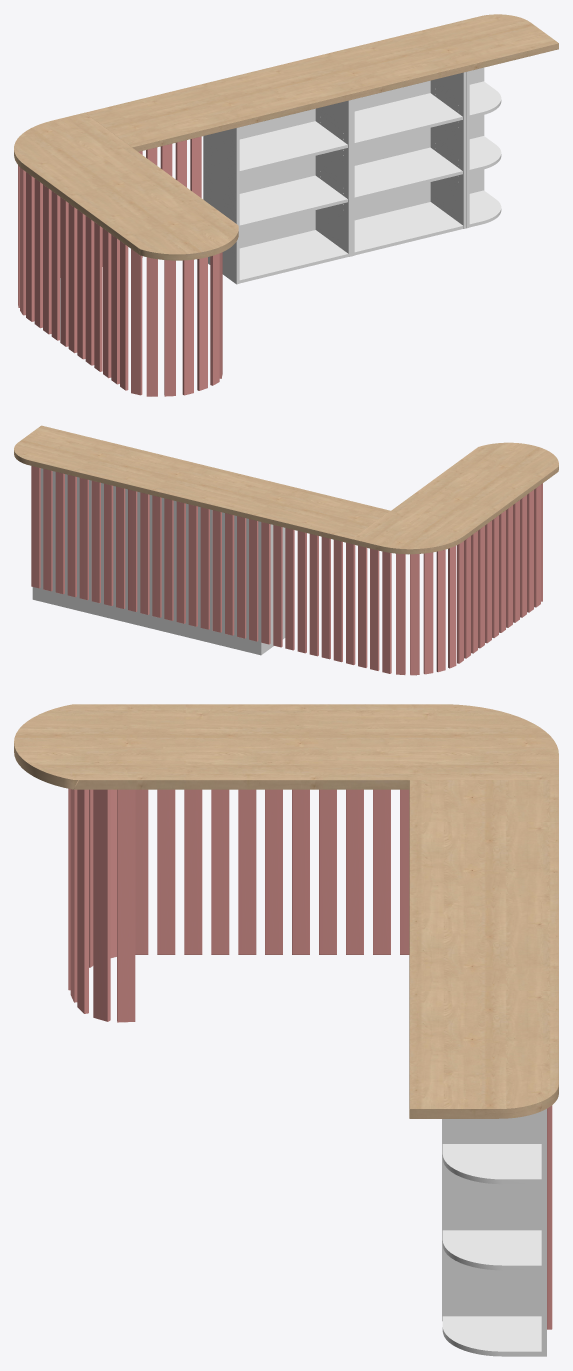
The model's file is alte152.glb.
3 renders of one model, top to bottom at view 1: azimuth 30°, elevation 25°; view 2: azimuth 150°, elevation 25°; view 3: azimuth 270°, elevation 25°, orthographic. The views are drawn at different scales.
Visible parts, largest first — view 1: Object_2, Object_3, Object_4; view 2: Object_4, Object_3, Object_2; view 3: Object_3, Object_4, Object_2.
Part boxes in pixels (x1,y1,x2,y2): Object_2: (203,67,501,284); Object_3: (14,14,558,260); Object_4: (18,136,222,396); Object_4: (31,466,542,675); Object_3: (14,425,558,554); Object_2: (32,468,285,655); Object_3: (14,704,558,1118); Object_4: (68,788,552,1329); Object_2: (442,1109,546,1356).
Bounding box in the file's own units: 320 × 101 × 182.
Materials: 3 (2 with a texture image).
